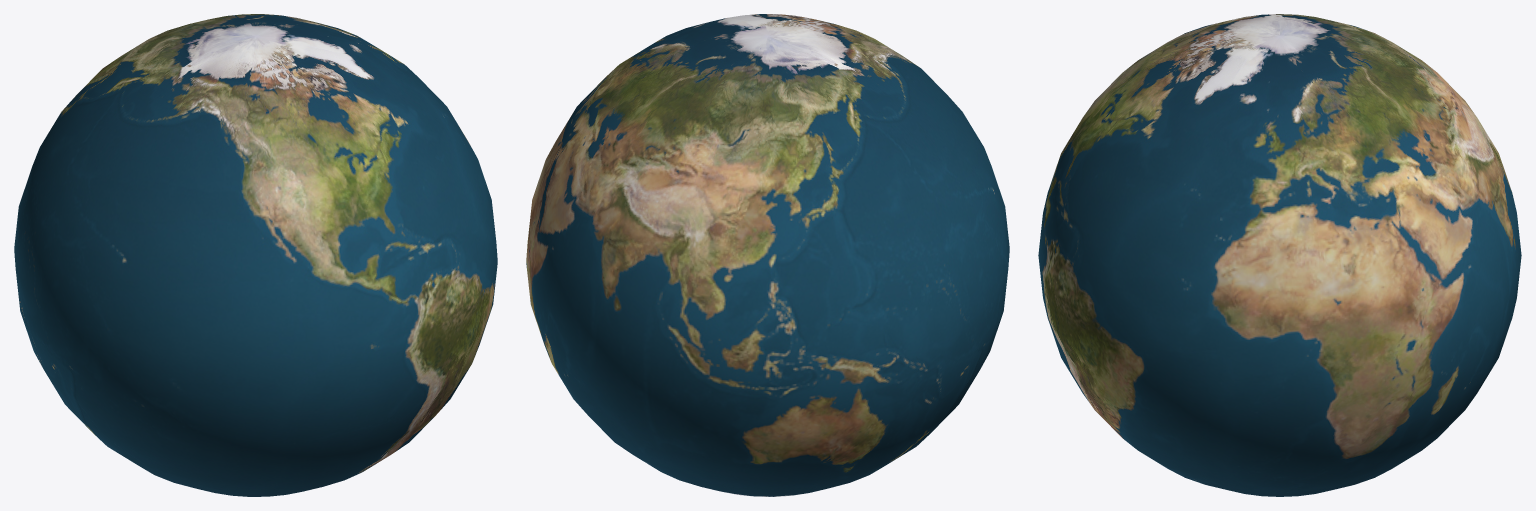
The model's file is earth.glb.
3 renders of one model, left to right at view 1: azimuth 30°, elevation 25°; view 2: azimuth 150°, elevation 25°; view 3: azimuth 270°, elevation 25°, orthographic.
Parts seen in each view (by area): view 1: Sphere; view 2: Sphere; view 3: Sphere.
Boxes of the visible parts, left/top/right/bottom form: Sphere: left=14, top=14, right=497, bottom=496; Sphere: left=526, top=14, right=1009, bottom=496; Sphere: left=1038, top=14, right=1521, bottom=496.
Size of the model in its own units: 1.27 by 1.27 by 1.27.
Materials: 1 (1 with a texture image).
